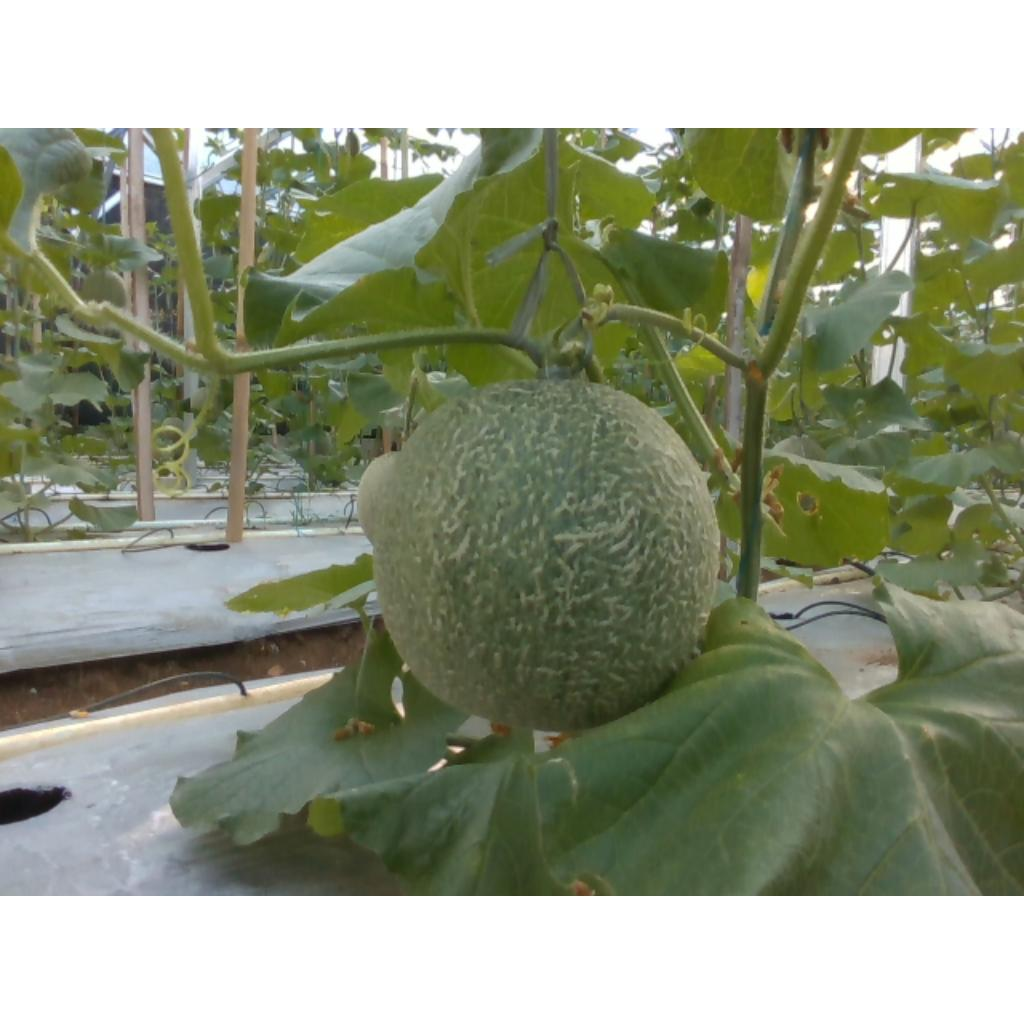melon: (360, 379, 722, 732)
